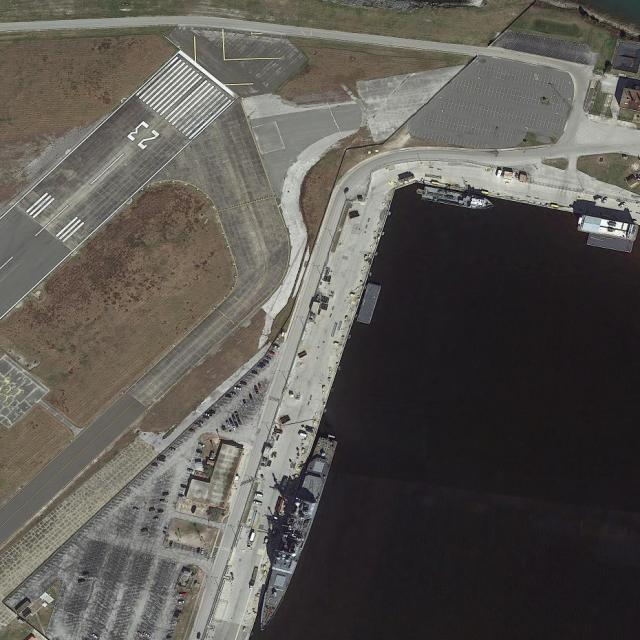Cruiser: (255, 436, 335, 634)
Other Warship: (415, 183, 496, 213)
